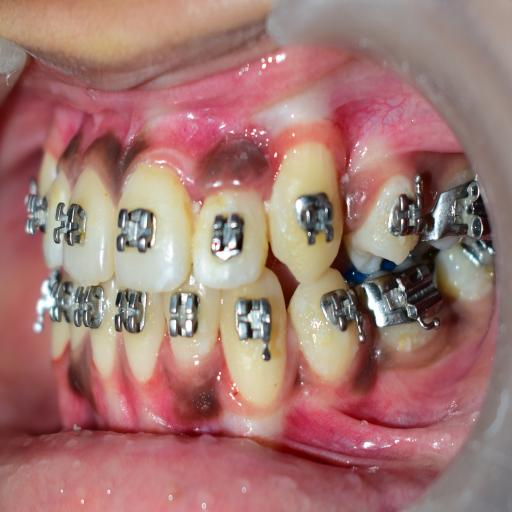correct_brace: (348, 158, 435, 270), (114, 200, 164, 257), (290, 191, 336, 251), (205, 210, 248, 262)
incorrect_brace: (194, 169, 268, 295), (387, 168, 429, 245)
